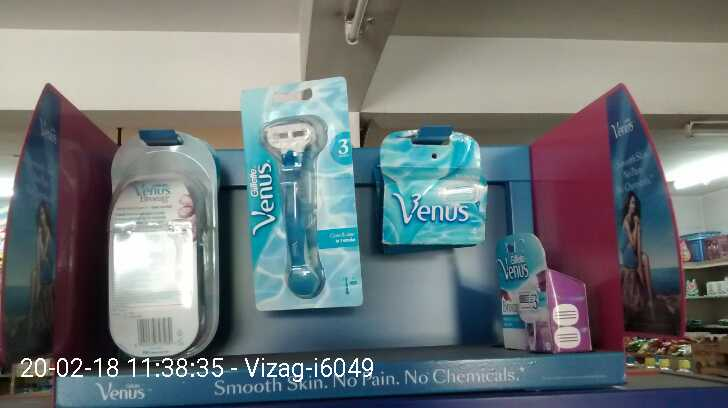venus: (234, 82, 363, 309), (370, 125, 486, 251)
